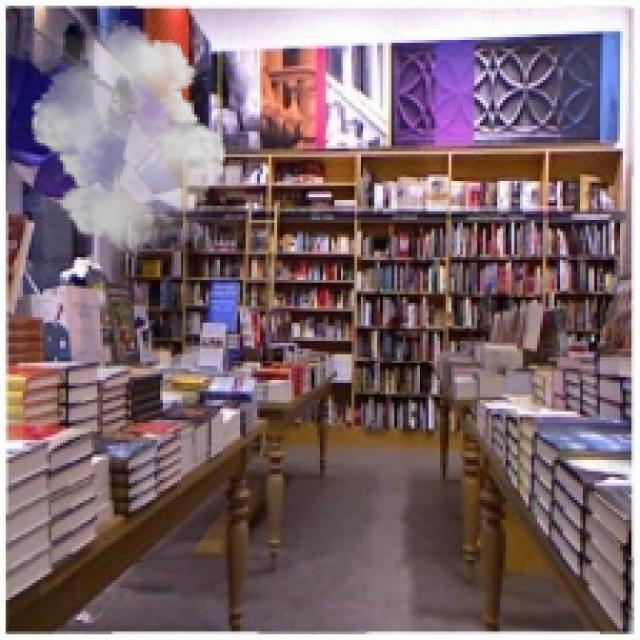smoke: (23, 20, 234, 257)
